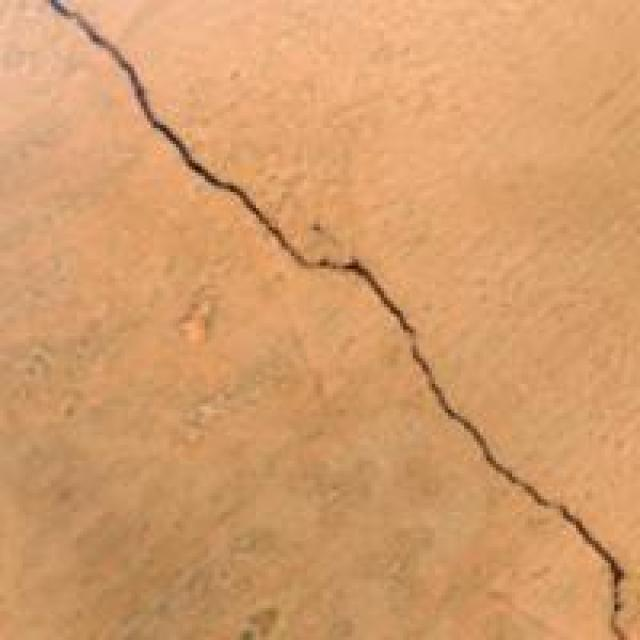crack: (54, 0, 637, 637)
